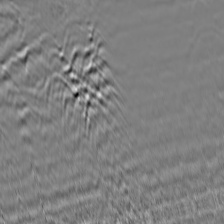cavities: (61, 43, 118, 120)
